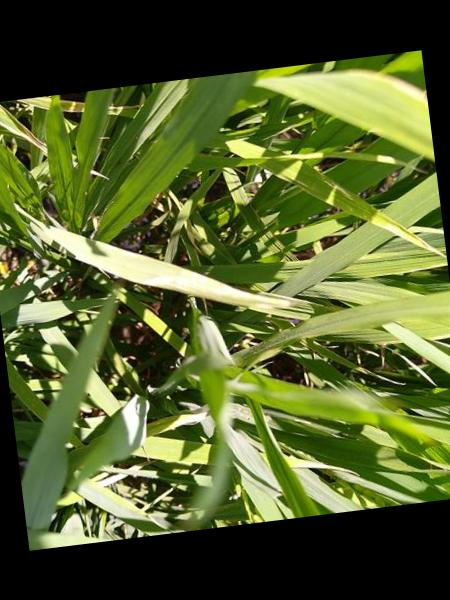Leaf Blight: (266, 72, 434, 154)
Leaf Streak: (294, 163, 444, 256)
